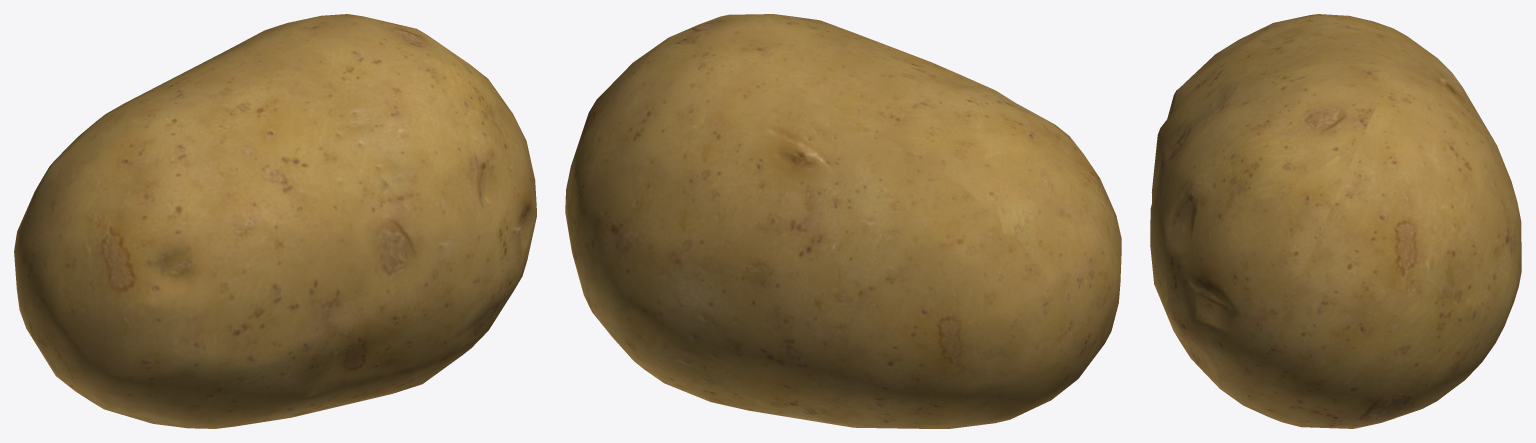
File: potato_a.gltf
3 views of the same model, side by side, from view 1: azimuth 30°, elevation 25°; view 2: azimuth 150°, elevation 25°; view 3: azimuth 270°, elevation 25° (orthographic). The views are drawn at different scales.
Visible parts, largest first — view 1: potato_a2; view 2: potato_a2; view 3: potato_a2.
Boxes of the visible parts, <box> form: potato_a2: <box>14,14,536,428</box>; potato_a2: <box>565,14,1121,428</box>; potato_a2: <box>1150,14,1521,428</box>.
Size of the model in its own units: 100 by 68.5 by 68.26.
1 material, 1 textured.
